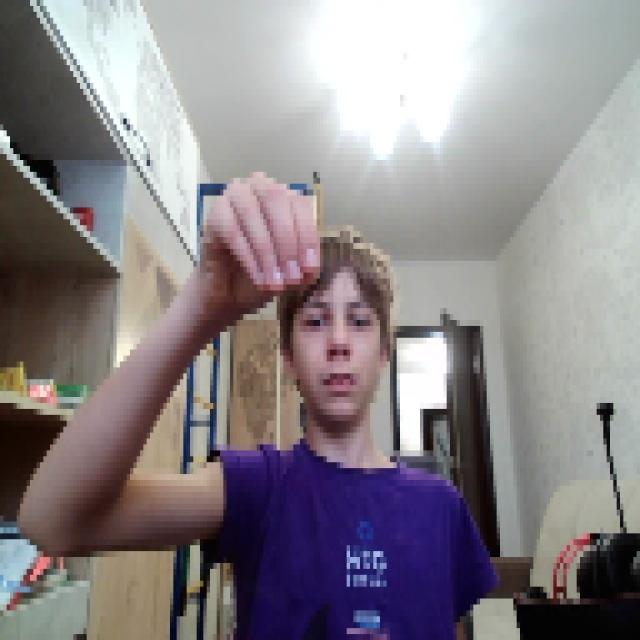left_click: (200, 166, 317, 308)
